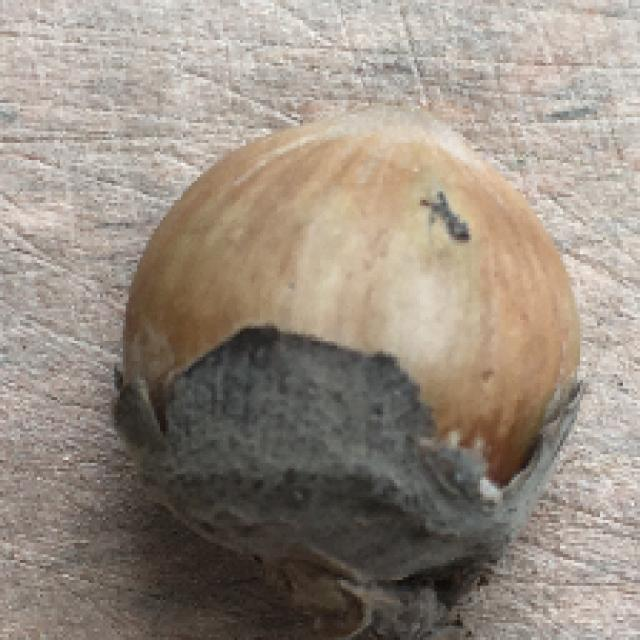damagedHazelnut: (110, 106, 586, 640)
